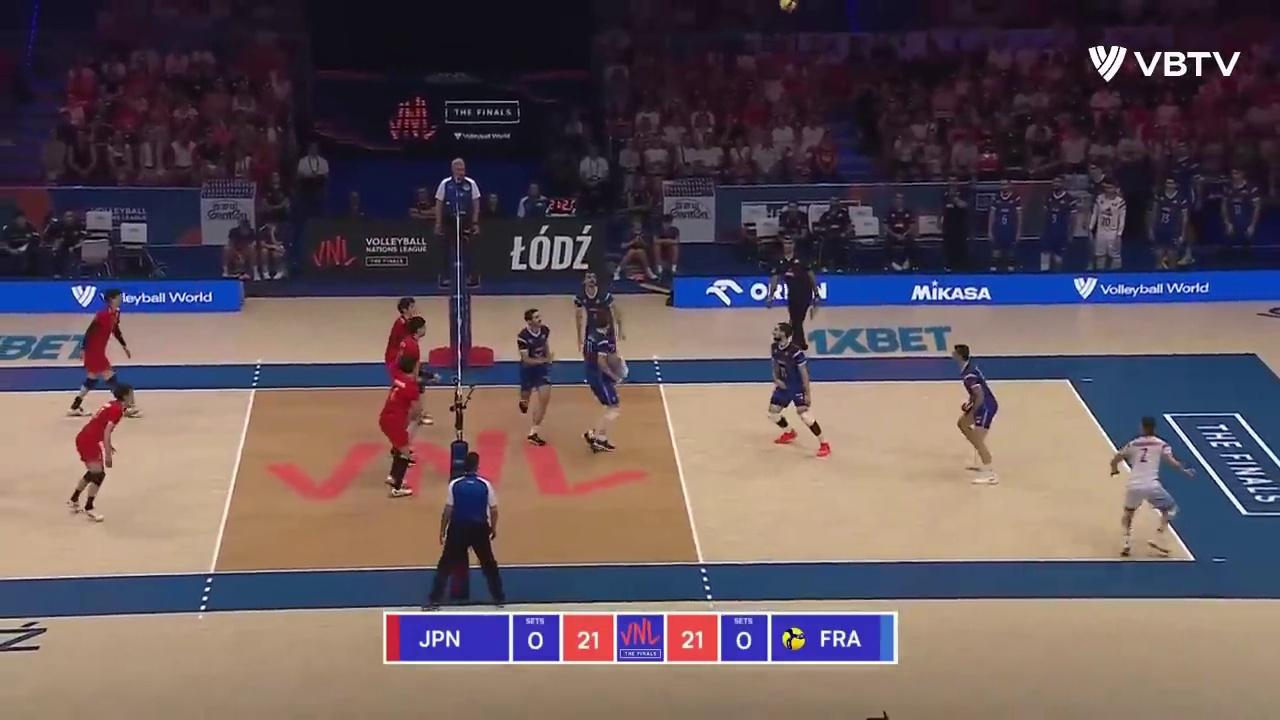ball: (777, 0, 799, 14)
